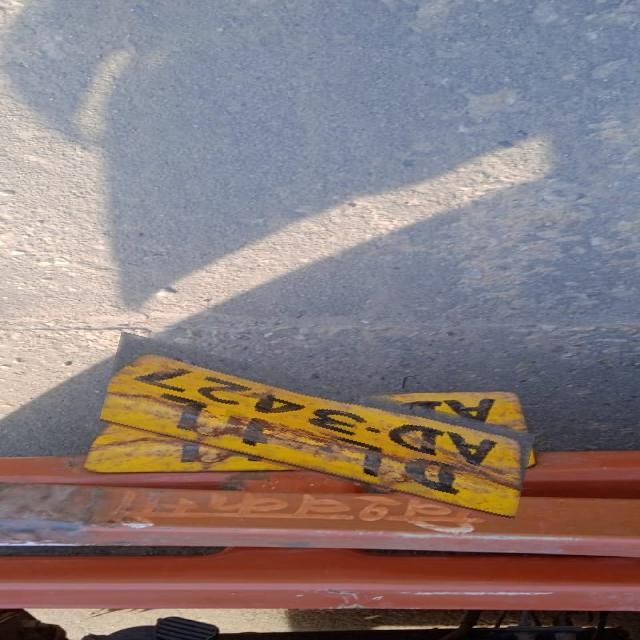License-plate: (102, 357, 533, 500)
